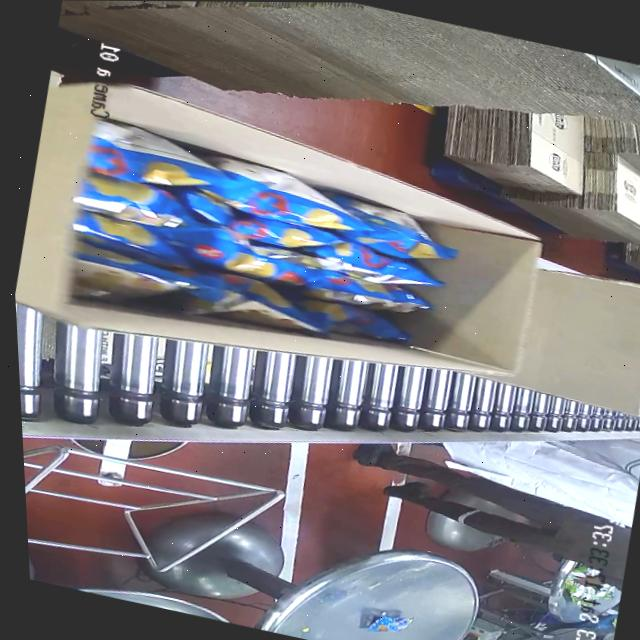PAPRIKA: (44, 118, 475, 375)
